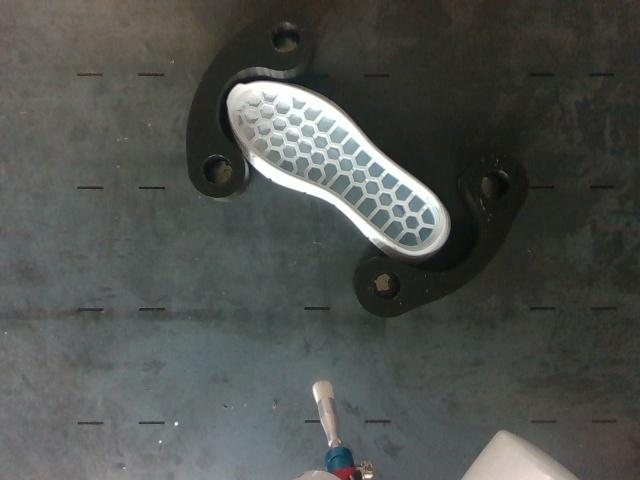shoes: (228, 83, 444, 251)
